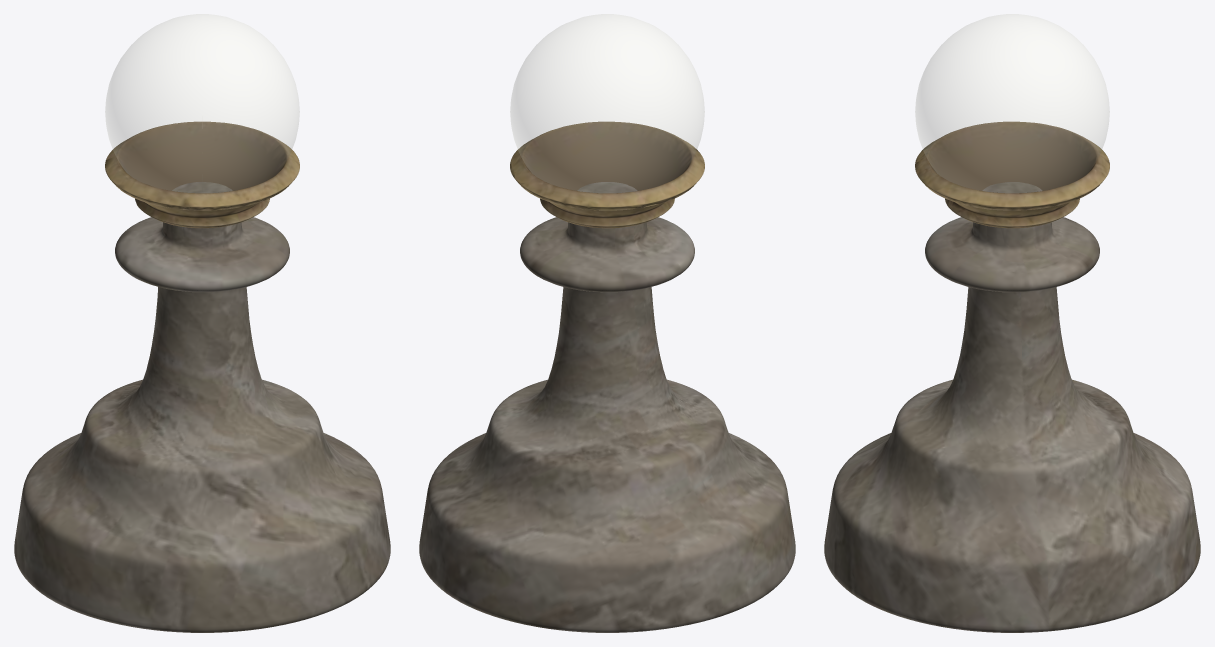
File: ChessPawn.glb
3 views of the same model, side by side, from view 1: azimuth 30°, elevation 25°; view 2: azimuth 150°, elevation 25°; view 3: azimuth 270°, elevation 25° (orthographic).
Parts seen in each view (by area): view 1: Pawn_Body_W1, Pawn_Top_W1; view 2: Pawn_Body_W1, Pawn_Top_W1; view 3: Pawn_Body_W1, Pawn_Top_W1.
Part boxes in pixels (x1,y1,x2,y2): Pawn_Body_W1: (14,121,390,632); Pawn_Top_W1: (105,14,299,192); Pawn_Body_W1: (419,121,795,632); Pawn_Top_W1: (510,14,704,192); Pawn_Body_W1: (824,121,1200,632); Pawn_Top_W1: (915,14,1109,192).
Size of the model in its own units: 0.0421 by 0.0664 by 0.0421.
Materials: 2 (1 with a texture image).
